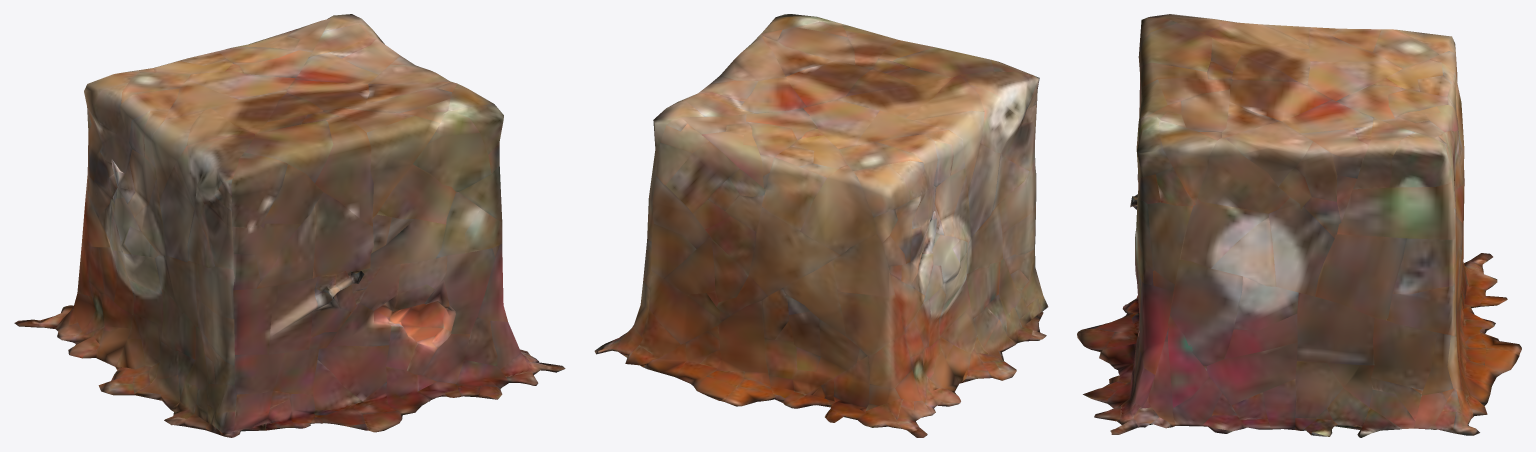
Rendered from Meshy_AI_Slime_Cube_0709233140_texture_low.glb.
3 views of the same model, side by side, from view 1: azimuth 30°, elevation 25°; view 2: azimuth 150°, elevation 25°; view 3: azimuth 270°, elevation 25° (orthographic). The views are drawn at different scales.
Bounding box in the file's own units: 1.89 × 1.29 × 1.9.
Materials: 1 (1 with a texture image).
